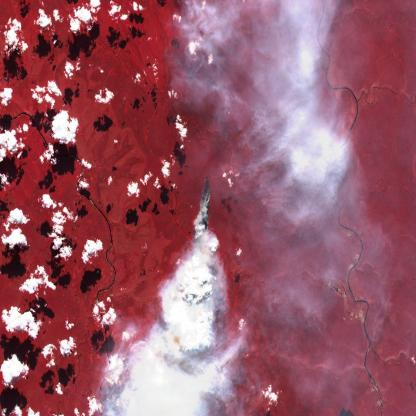fire: (188, 174, 215, 292)
